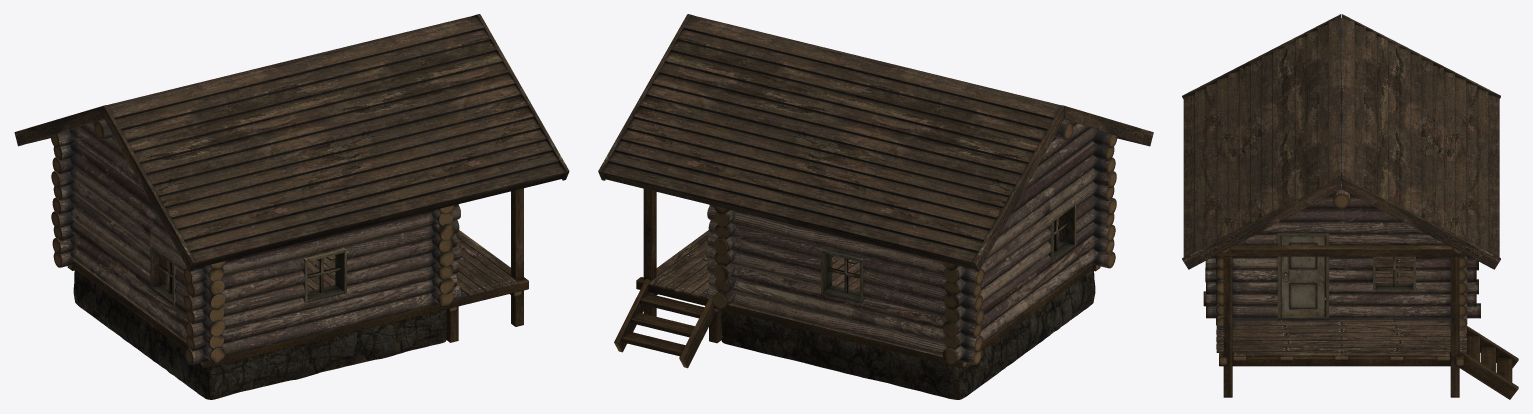
The model's file is log-cabin-y90.glb.
The picture shows the model from 3 angles, left to right: view 1: azimuth 30°, elevation 25°; view 2: azimuth 150°, elevation 25°; view 3: azimuth 270°, elevation 25°; orthographic projection. The views are drawn at different scales.
Visible parts, largest first — view 1: Object_10, Object_9, Object_8, Object_7, Object_6, Object_4, Object_5; view 2: Object_10, Object_9, Object_8, Object_7, Object_6, Object_4, Object_5; view 3: Object_10, Object_8, Object_6, Object_4, Cabin_Door_3, Object_5, Object_9.
Part boxes in pixels (x1=…): Object_10: x1=14, y1=14, x2=569, y2=271; Object_9: x1=51, y1=119, x2=460, y2=364; Object_8: x1=69, y1=119, x2=454, y2=363; Object_7: x1=73, y1=270, x2=446, y2=399; Object_6: x1=67, y1=188, x2=528, y2=367; Object_4: x1=167, y1=230, x2=518, y2=298; Object_5: x1=150, y1=245, x2=346, y2=306; Object_10: x1=598, y1=14, x2=1153, y2=271; Object_9: x1=706, y1=120, x2=1117, y2=364; Object_8: x1=712, y1=119, x2=1098, y2=363; Object_7: x1=721, y1=270, x2=1095, y2=399; Object_6: x1=614, y1=189, x2=1100, y2=368; Object_4: x1=648, y1=230, x2=859, y2=298; Object_5: x1=821, y1=202, x2=1076, y2=303; Object_10: x1=1182, y1=14, x2=1500, y2=269; Object_8: x1=1203, y1=194, x2=1480, y2=318; Object_6: x1=1214, y1=245, x2=1518, y2=399; Object_4: x1=1216, y1=256, x2=1466, y2=356; Cabin_Door_3: x1=1282, y1=236, x2=1325, y2=316; Object_5: x1=1277, y1=233, x2=1415, y2=320; Object_9: x1=1216, y1=181, x2=1467, y2=325.
Bounding box in the file's own units: 9.1 × 5.89 × 7.7.
Materials: 8 (7 with a texture image).
